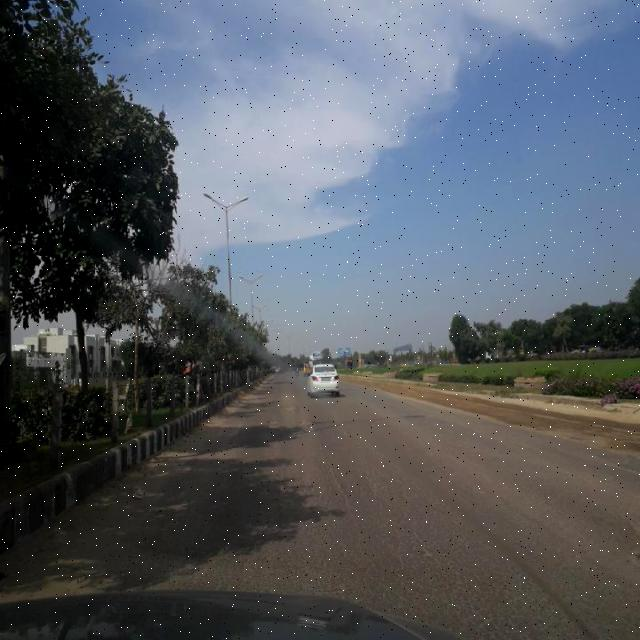D00: (314, 427, 354, 519)
D20: (127, 440, 630, 632)
D40: (266, 413, 284, 431), (295, 415, 313, 433)
